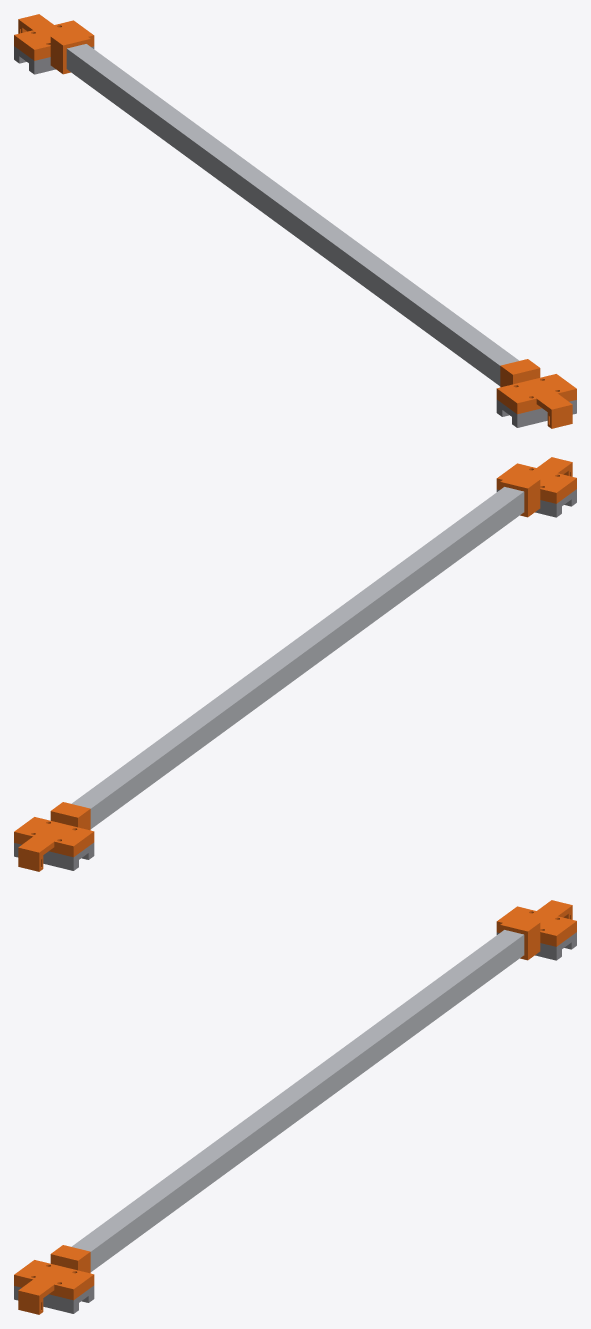
Rendered from pusher_xp.glb.
3 renders of one model, top to bottom at view 1: azimuth 30°, elevation 25°; view 2: azimuth 150°, elevation 25°; view 3: azimuth 330°, elevation 25°, orthographic.
Visible parts, largest first — view 1: dock_bar_x+1, dock_bar_bracket_low_outer_x+1-1, dock_bar_bracket_low_outer_x+1+1, dockREF_carriage_x+1-1; view 2: dock_bar_x+1, dock_bar_bracket_low_outer_x+1+1, dock_bar_bracket_low_outer_x+1-1, dockREF_carriage_x+1+1; view 3: dock_bar_x+1, dock_bar_bracket_low_outer_x+1-1, dock_bar_bracket_low_outer_x+1+1, dockREF_carriage_x+1-1.
Part boxes in pixels (left/top/right/bottom): dock_bar_x+1: left=66, top=44, right=519, bottom=385; dock_bar_bracket_low_outer_x+1-1: left=496, top=359, right=576, bottom=428; dock_bar_bracket_low_outer_x+1+1: left=14, top=14, right=94, bottom=74; dockREF_carriage_x+1-1: left=496, top=399, right=576, bottom=427; dock_bar_x+1: left=71, top=487, right=524, bottom=828; dock_bar_bracket_low_outer_x+1+1: left=14, top=802, right=94, bottom=871; dock_bar_bracket_low_outer_x+1-1: left=496, top=457, right=576, bottom=517; dockREF_carriage_x+1+1: left=14, top=842, right=94, bottom=870; dock_bar_x+1: left=71, top=930, right=524, bottom=1271; dock_bar_bracket_low_outer_x+1-1: left=14, top=1245, right=94, bottom=1314; dock_bar_bracket_low_outer_x+1+1: left=496, top=900, right=576, bottom=960; dockREF_carriage_x+1-1: left=14, top=1285, right=94, bottom=1313.
Bounding box in the file's own units: 45.4 × 25 × 703.
